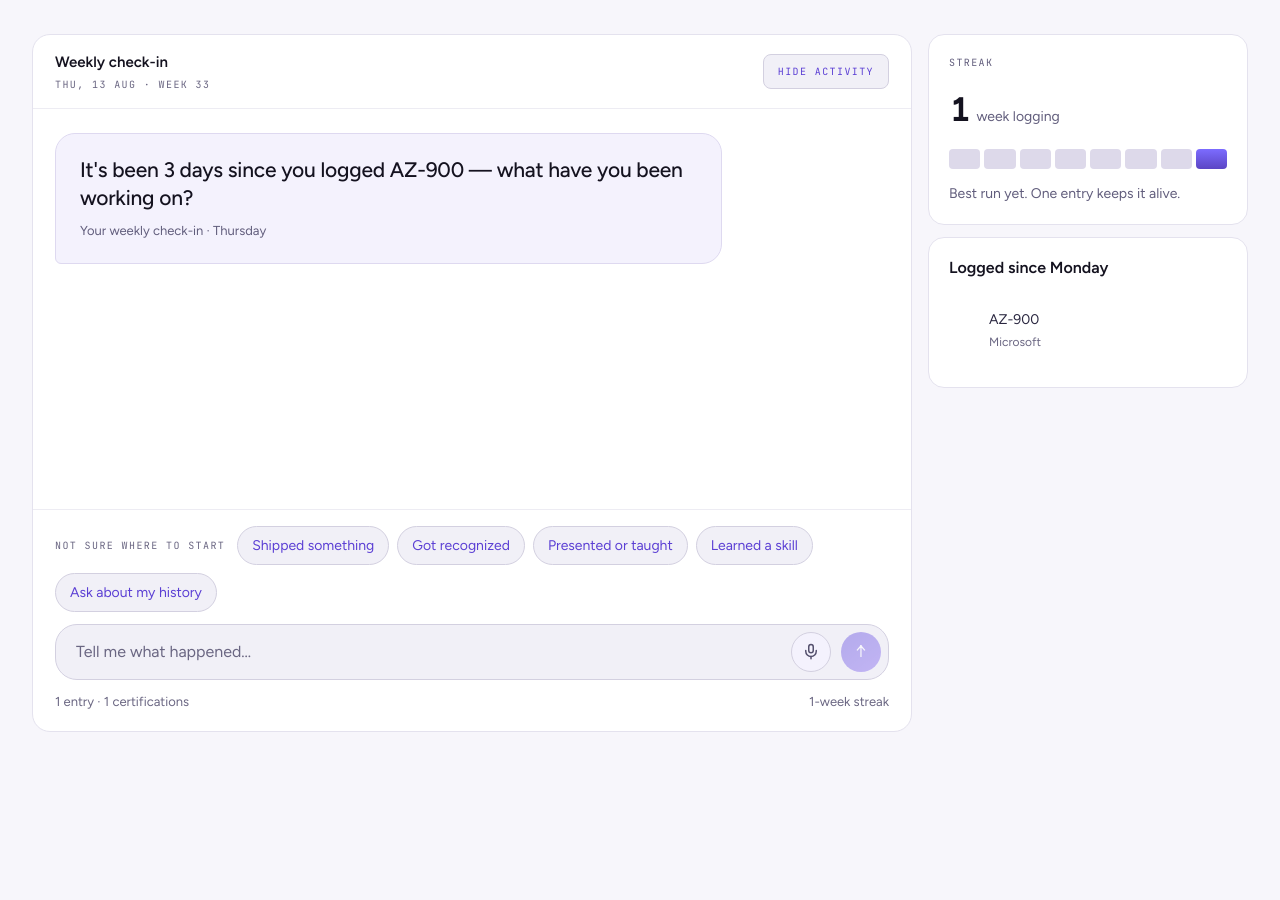
Test: accessibility (audit §A4–A7) › §A5 — each message says who it came from, not just which side it sits on
Type "how many certs?" into the text box labelled "Tell me what happened…". click: coordinates (428, 652)
box: [76,632,781,672]
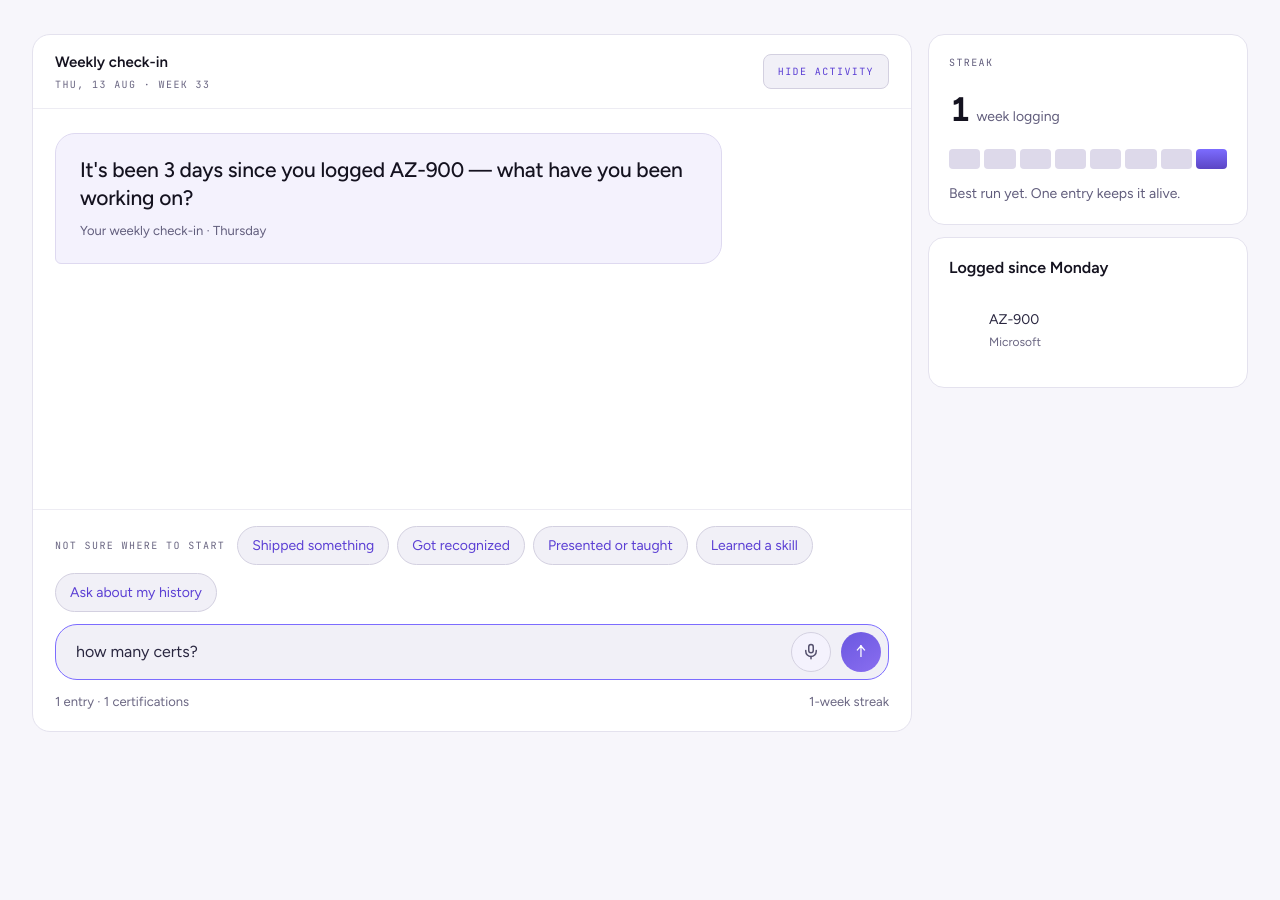
Click the button named "send message". click: coordinates (861, 652)
box: [841,632,881,672]
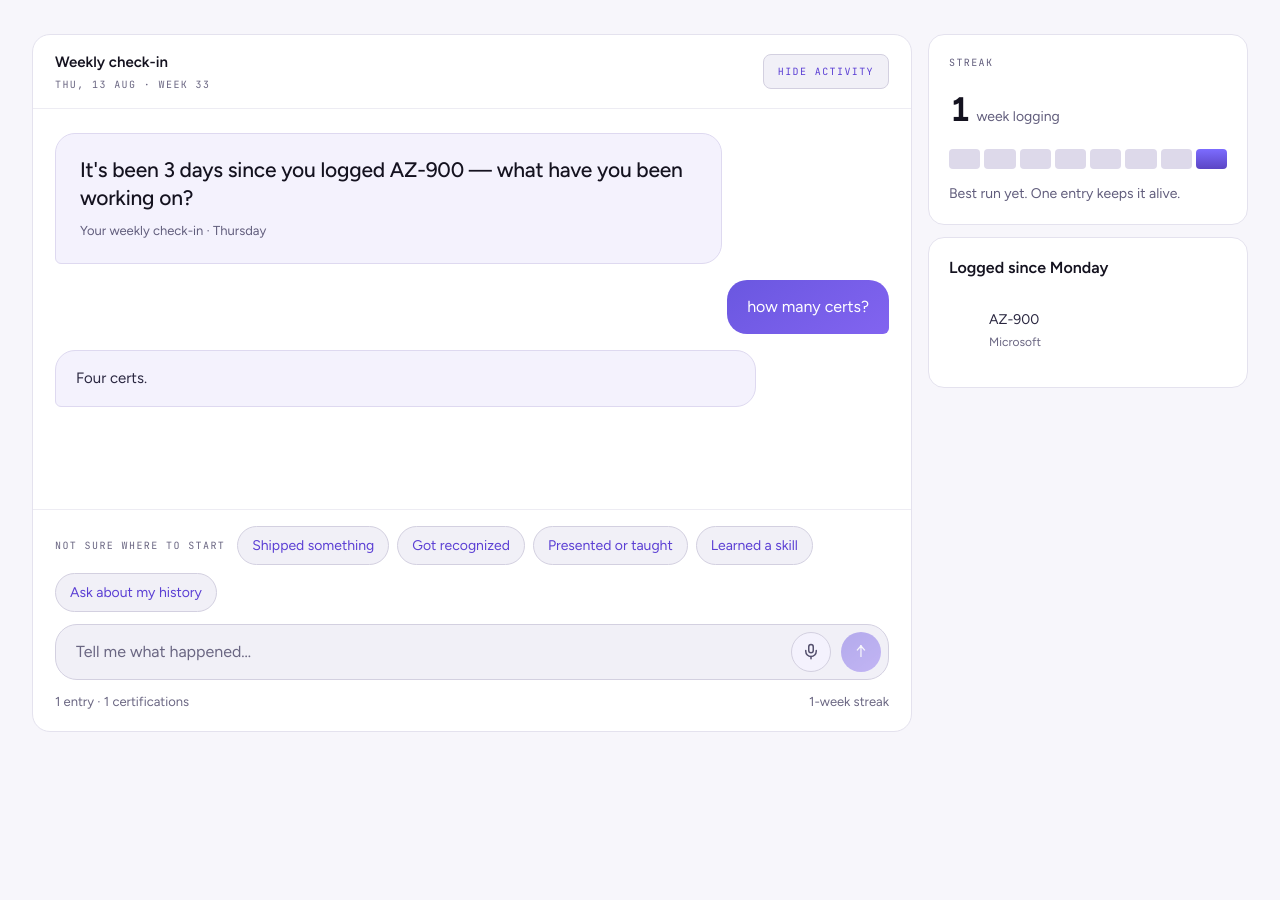
Now the text "Four certs." is shown, box [55,350,756,407]
